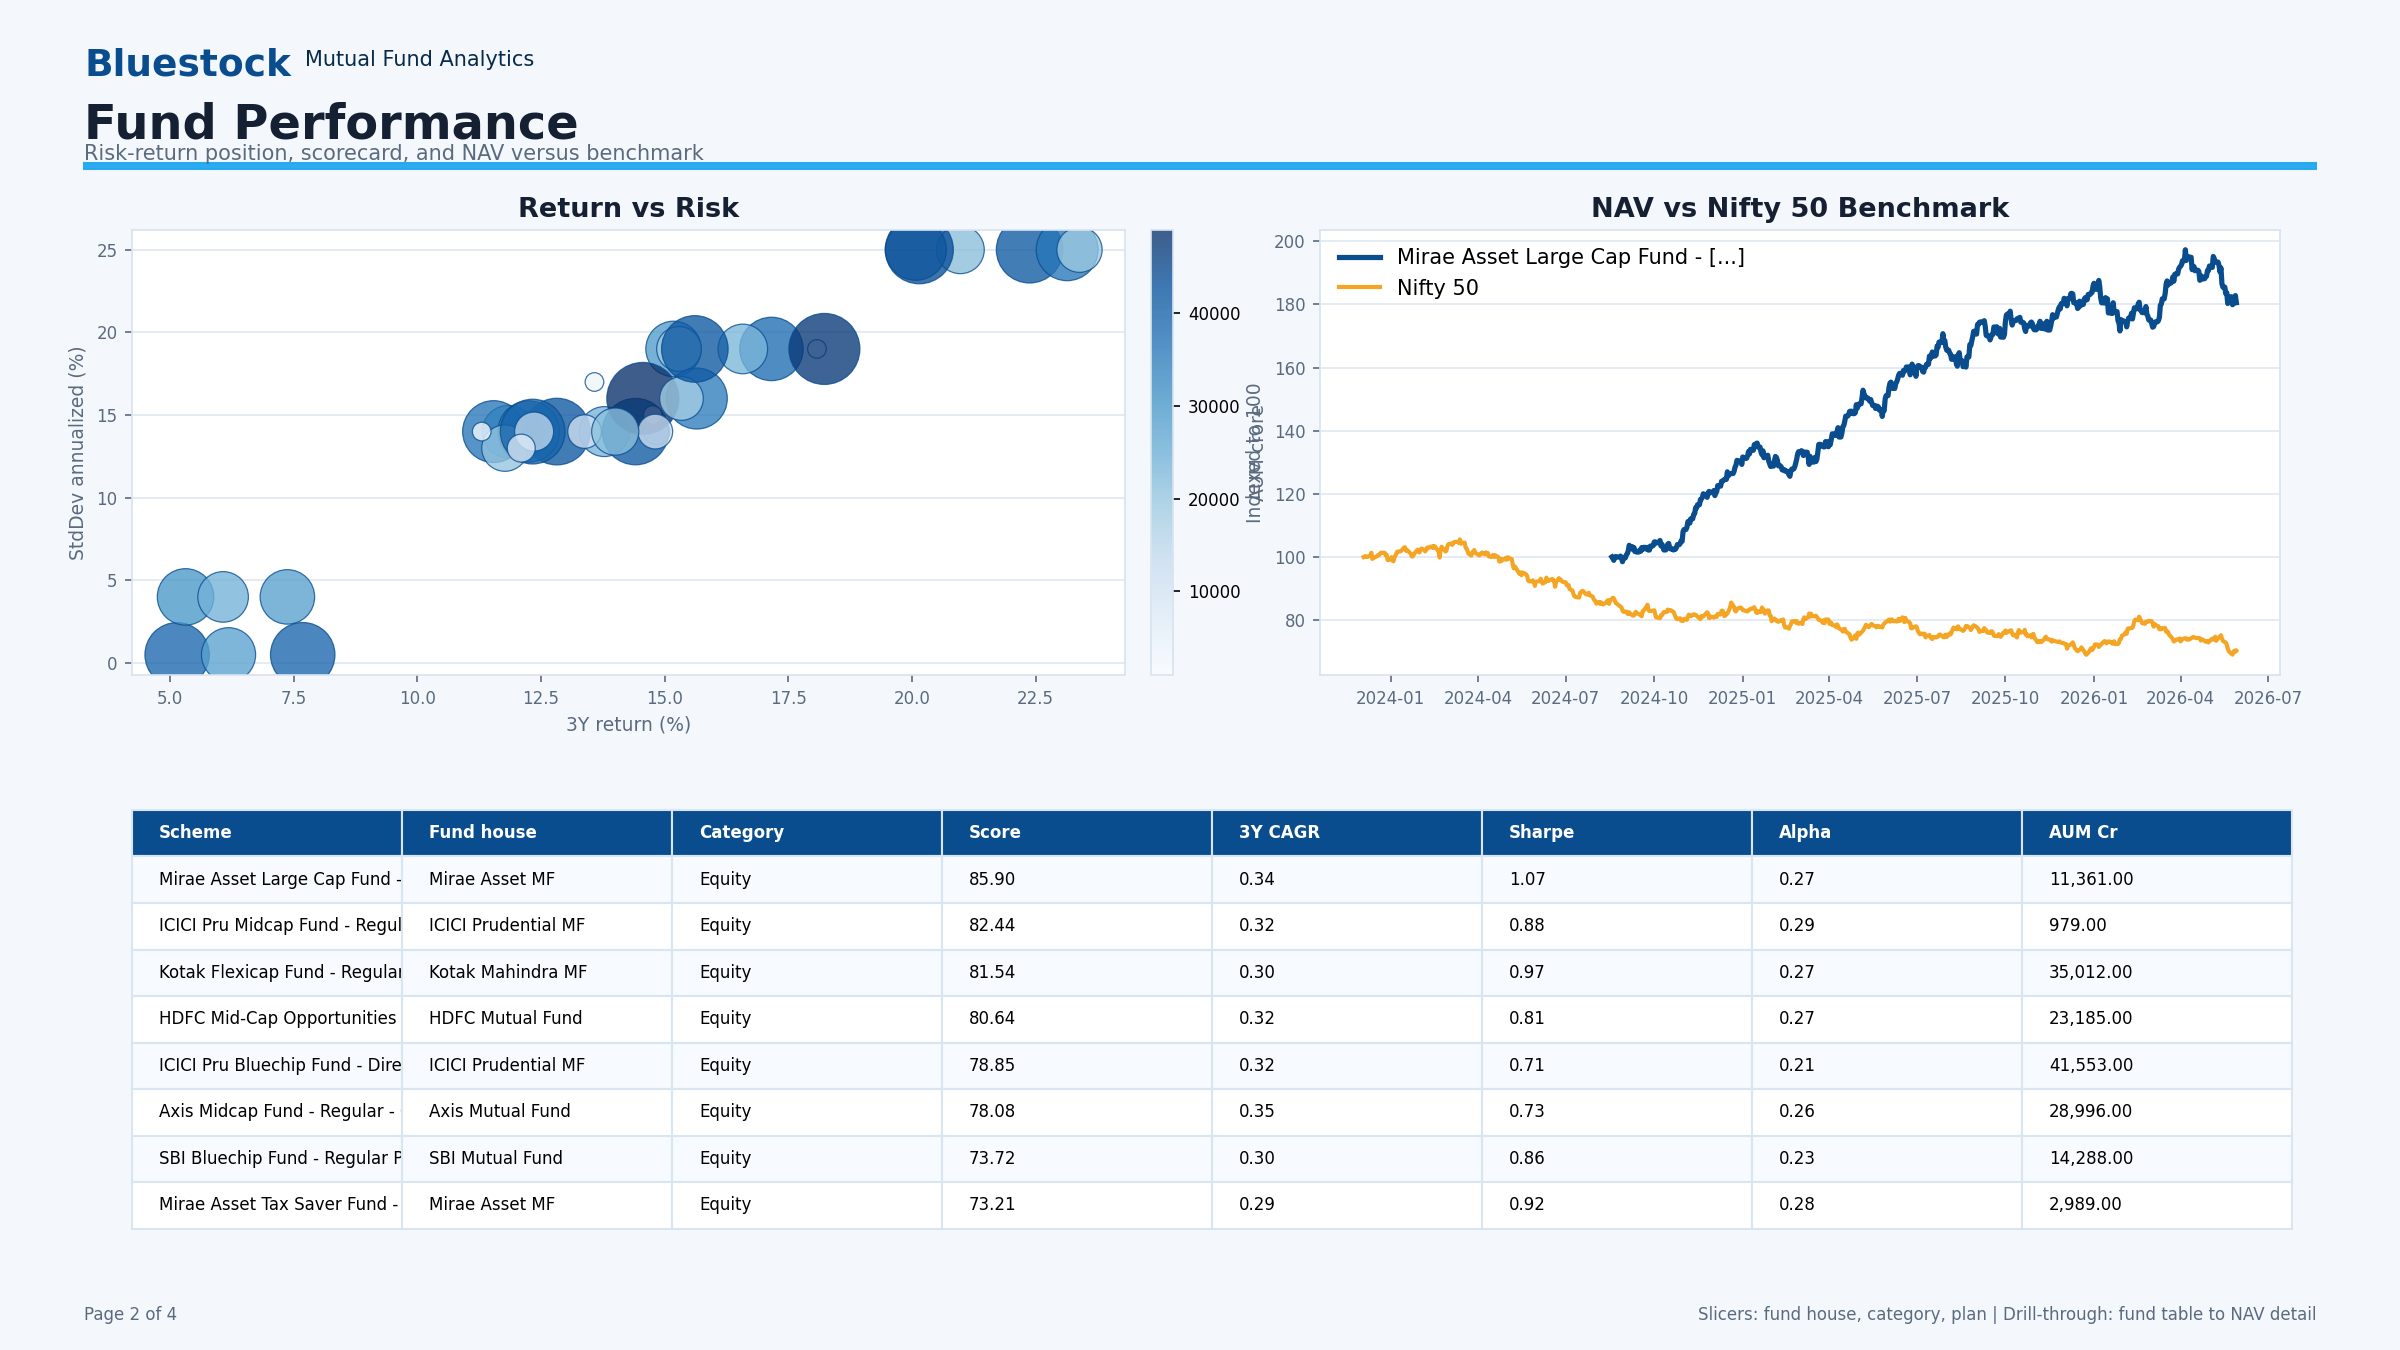

The dashboard page shown, as its layout file describes it:
{"tool":"powerbi","page":{"name":"Fund Performance","canvas":[1280,720],"ordinal":1},"visuals":[{"type":"textbox","box":[0,0,474.3,91.4],"z":0},{"type":"scatterChart","title":"Risk vs Return (3 Year)","fields":{"X":["Performance.return_3yr_pct"],"Y":["Performance.sharpe_ratio"],"Size":["Sum(Performance.aum_crore)"],"Series":["Performance.category"]},"box":[0,360.3,639.7,360.3],"z":1000},{"type":"tableEx","fields":{"Values":["Performance.scheme_name","Performance.category","Performance.fund_house","Performance.plan","Sum(Performance.aum_crore)","Performance.return_3yr_pct","Sum(Performance.sharpe_ratio)","Sum(Performance.max_drawdown_pct)"]},"box":[640,360,640,360],"z":2000},{"type":"lineChart","title":"NAV Trend","fields":{"Category":["NAV.date.Variation.Date Hierarchy.Year","NAV.date.Variation.Date Hierarchy.Quarter","NAV.date.Variation.Date Hierarchy.Month","NAV.date.Variation.Date Hierarchy.Day"],"Y":["Avg(NAV.nav)"]},"box":[0,91.4,640,268.6],"z":3000},{"type":"slicer","fields":{"Values":["Performance.fund_house"]},"box":[640,204.3,640,155.7],"z":4000},{"type":"slicer","fields":{"Values":["Performance.category"]},"box":[640,0,640,204.3],"z":5000},{"type":"slicer","fields":{"Values":["Performance.plan"]},"box":[474.3,0,165.7,102.9],"z":6000}]}

Visuals, with their boxes in screenshot pixels (x1, y1, x2, y2), scaled from the page's 1280x720 canvas onto the 2400x1350 screenshot:
textbox: [left=0, top=0, right=889, bottom=171]
"Risk vs Return (3 Year)" scatterChart: [left=0, top=676, right=1199, bottom=1349]
tableEx - Performance.scheme_name x Performance.category: [left=1200, top=675, right=2399, bottom=1349]
"NAV Trend" lineChart: [left=0, top=171, right=1200, bottom=675]
slicer - Performance.fund_house: [left=1200, top=383, right=2399, bottom=675]
slicer - Performance.category: [left=1200, top=0, right=2399, bottom=383]
slicer - Performance.plan: [left=889, top=0, right=1200, bottom=193]
